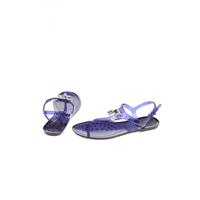shoe: (74, 102, 160, 139), (43, 91, 80, 134)
